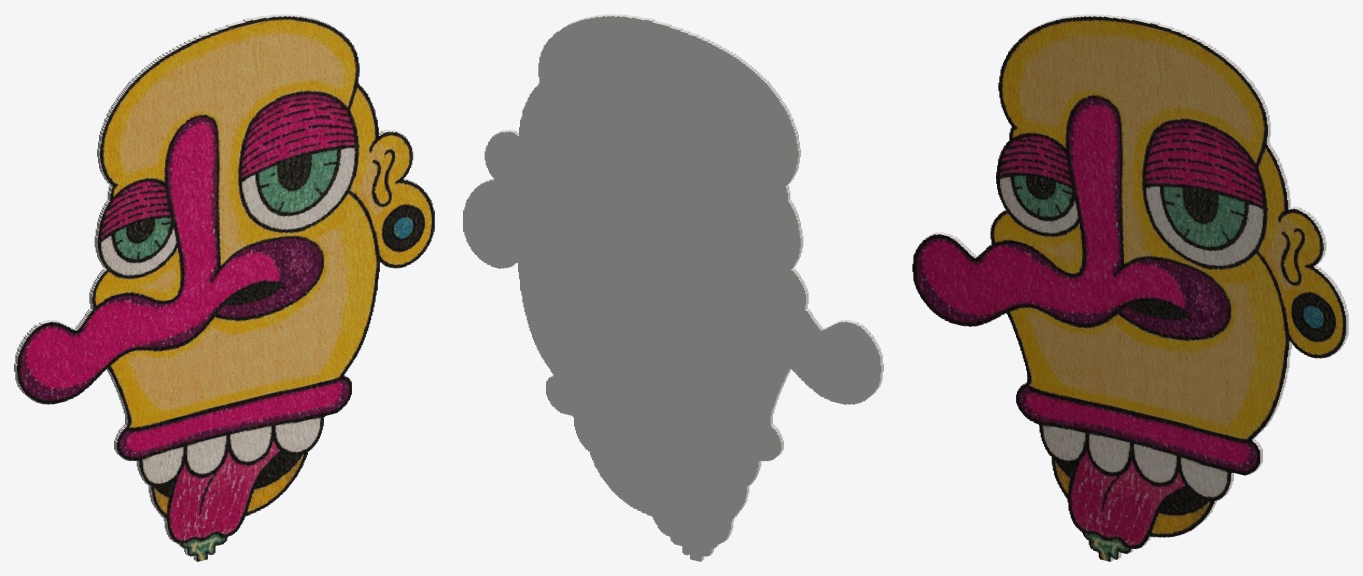
The model's file is LEFT_DECO.fbx.
3 renders of one model, left to right at view 1: azimuth 30°, elevation 25°; view 2: azimuth 150°, elevation 25°; view 3: azimuth 330°, elevation 25°, orthographic. The views are drawn at different scales.
Parts seen in each view (by area): view 1: Cartellone_Sagoma; view 2: Cartellone_Sagoma; view 3: Cartellone_Sagoma.
Boxes of the visible parts, x1,y1,x2,y2 form: Cartellone_Sagoma: (14,14,434,561); Cartellone_Sagoma: (463,14,883,561); Cartellone_Sagoma: (912,14,1348,561).
Size of the model in its own units: 145 by 176 by 1.5.
2 materials, 1 textured.
